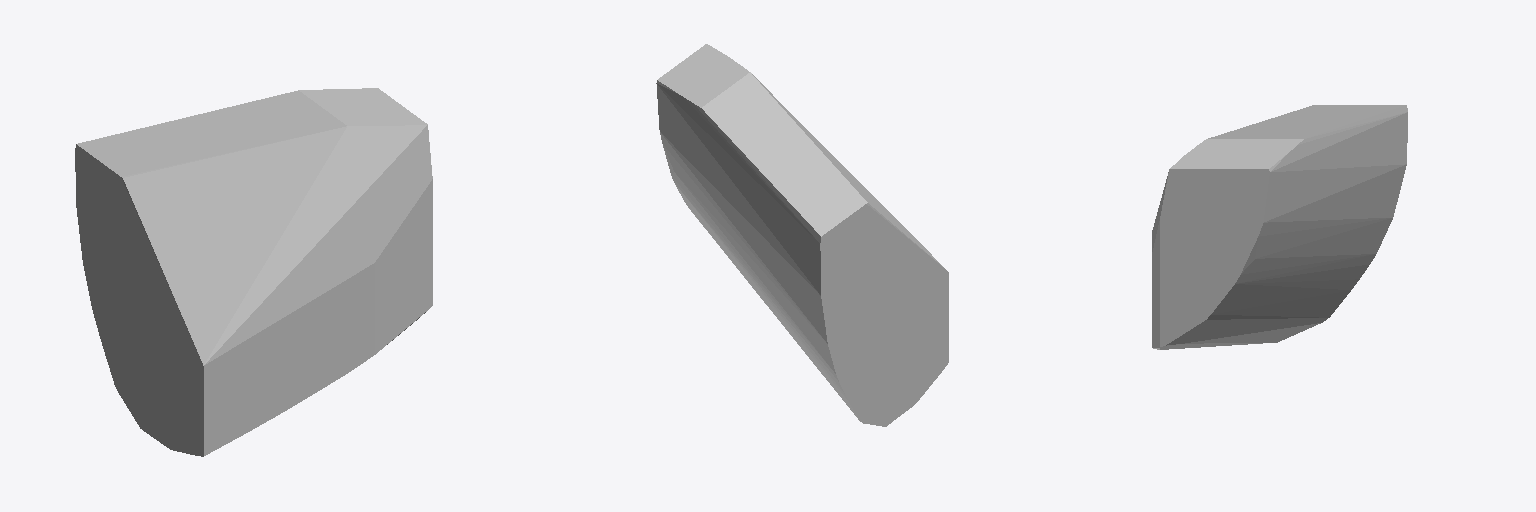
File: phantom-elastrat_collision_154.obj
3 renders of one model, left to right at view 1: azimuth 30°, elevation 25°; view 2: azimuth 150°, elevation 25°; view 3: azimuth 270°, elevation 25°, orthographic.
Size of the model in its own units: 0.0053 by 0.0063 by 0.0051.